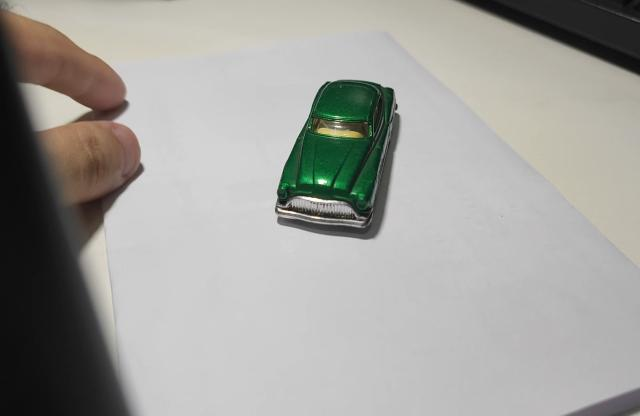06_MASERATI: (274, 80, 401, 237)
